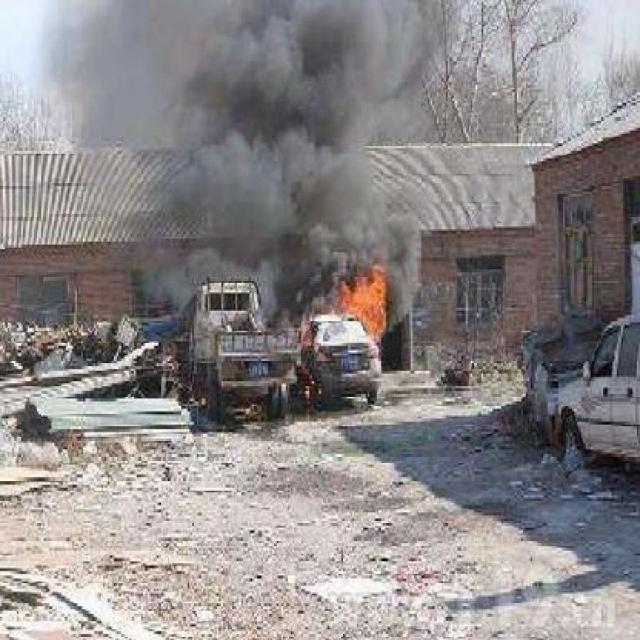Fire: (345, 256, 392, 341)
Smoke: (122, 8, 330, 287), (337, 9, 433, 258)
